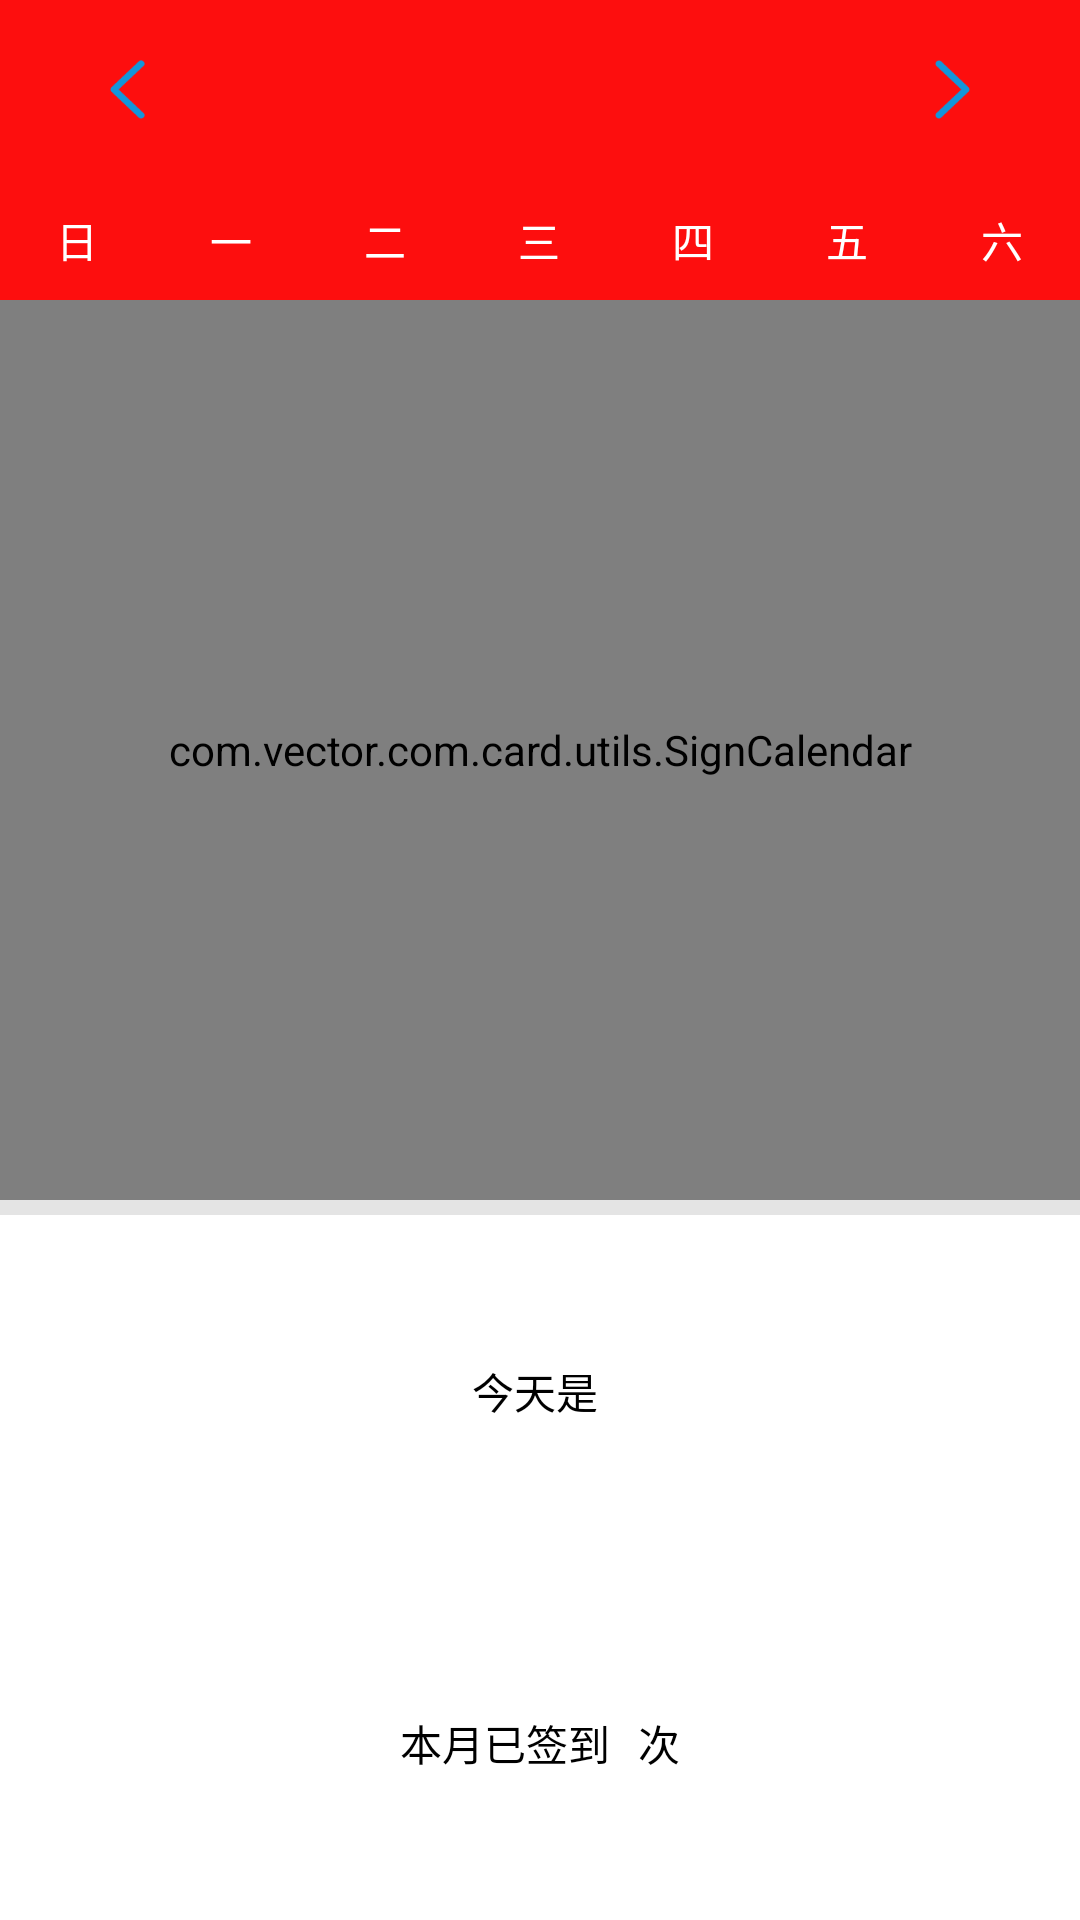

Point at icon controls on the screen. Image size 1080 x 1920, points as [x,y].
leftarrow: [127,89]
rightarrow: [952,89]
